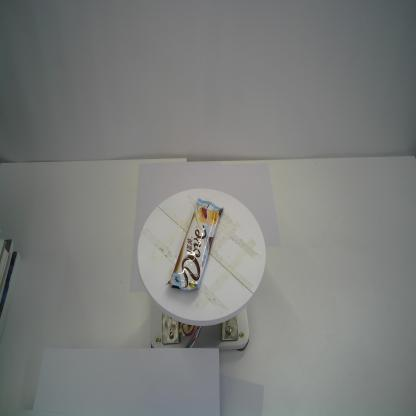Chocolate: (164, 197, 224, 292)
